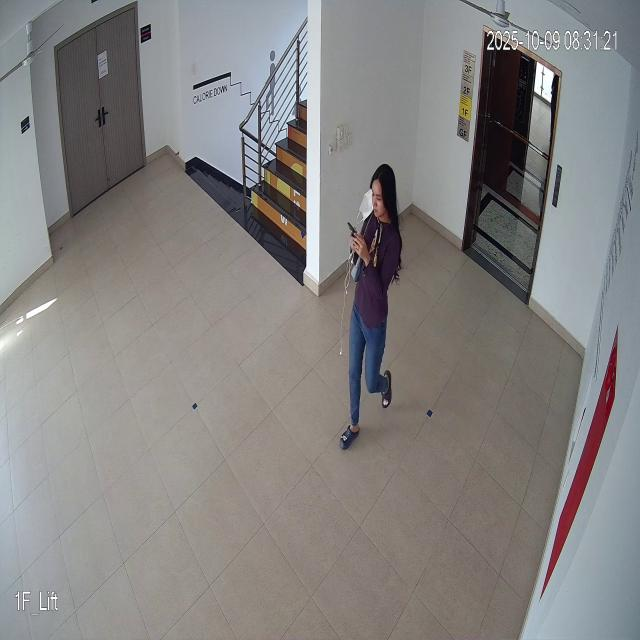face: (365, 165, 397, 232)
